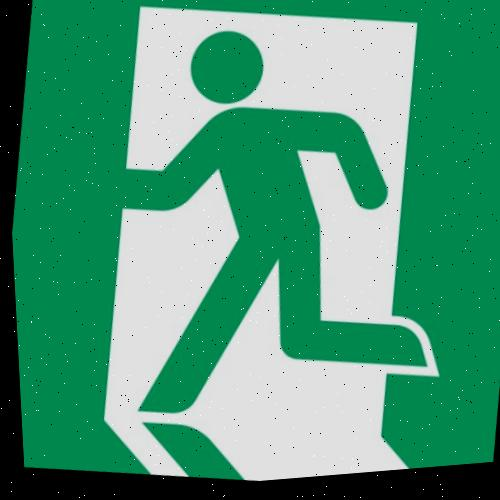emergency_exit: (11, 1, 498, 482)
